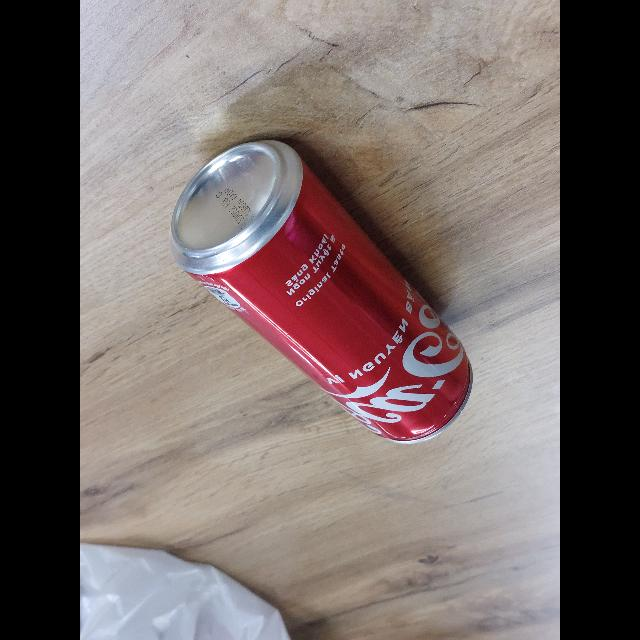coca_cola: (169, 136, 473, 443)
